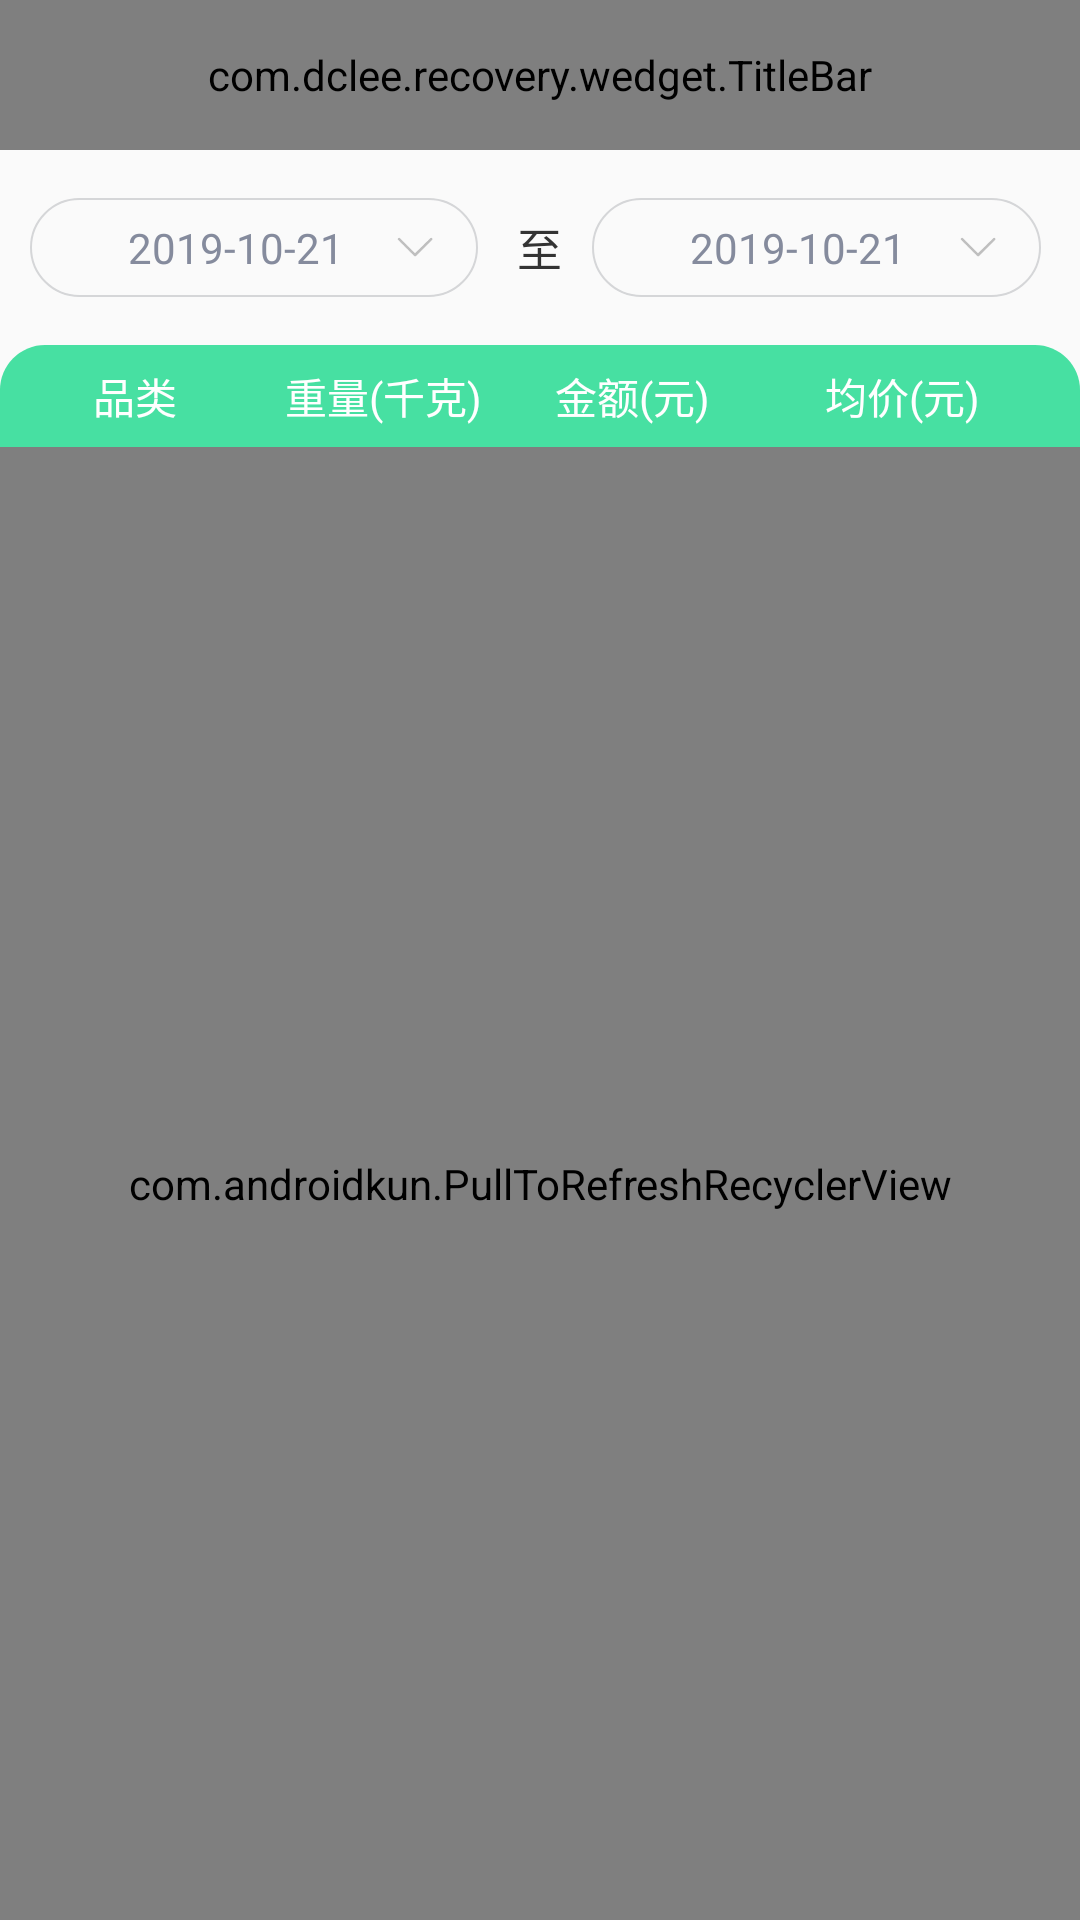

Point at icon controls on the screen. Image size 1080×1920, points as [x,y].
arrow bottom: [415,247], [978,247]
